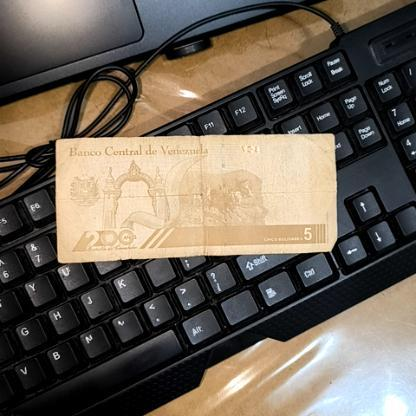five-back-vef: (55, 134, 336, 263)
